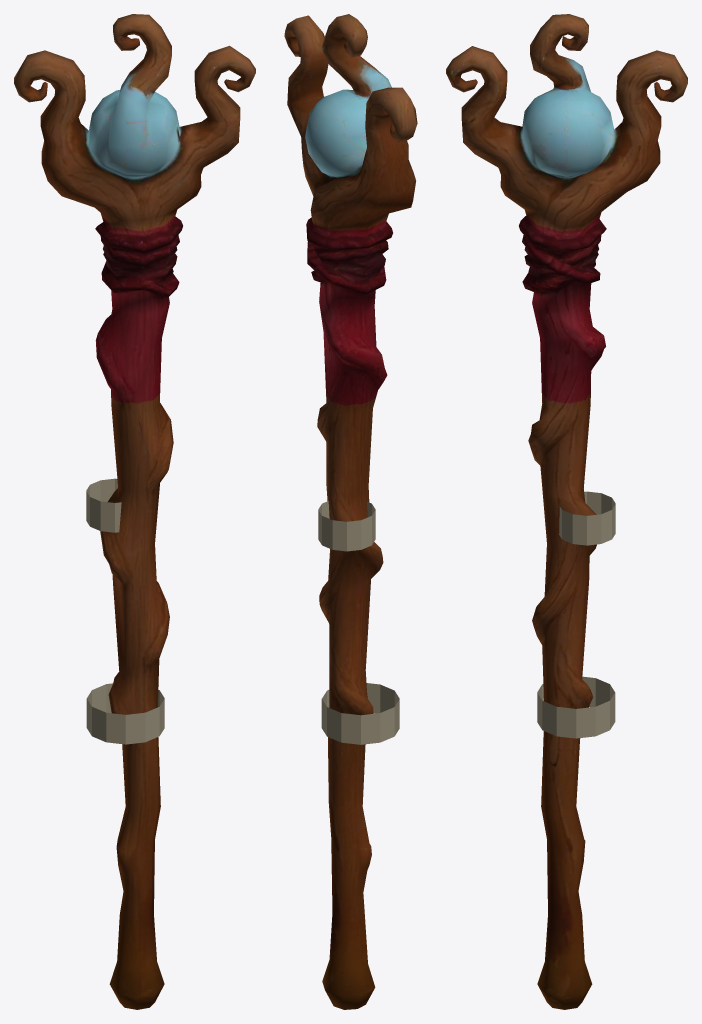
File: brasscrown_walking_staff.glb
3 views of the same model, side by side, from view 1: azimuth 90°, elevation 25°; view 2: azimuth 210°, elevation 25°; view 3: azimuth 270°, elevation 25° (orthographic).
Visible parts, largest first — view 1: tripo_node_afd9772d-4086-4c74-928c-1d204a02736e; view 2: tripo_node_afd9772d-4086-4c74-928c-1d204a02736e; view 3: tripo_node_afd9772d-4086-4c74-928c-1d204a02736e.
Boxes of the visible parts, x1=… form: tripo_node_afd9772d-4086-4c74-928c-1d204a02736e: x1=14, y1=14, x2=255, y2=1009; tripo_node_afd9772d-4086-4c74-928c-1d204a02736e: x1=284, y1=14, x2=417, y2=1009; tripo_node_afd9772d-4086-4c74-928c-1d204a02736e: x1=446, y1=14, x2=687, y2=1009.
Size of the model in its own units: 0.2037 by 2.28 by 0.5046.
1 material, 1 textured.
